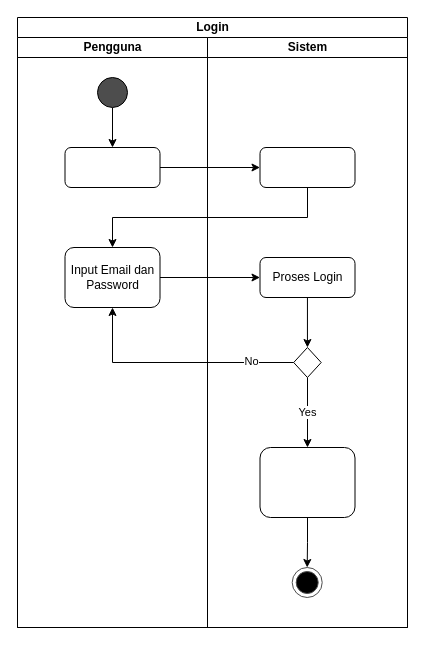
Some shapes in this 425 by 645 pixel diagram are drawn without their labels. Each missing label, with the centre of its shape:
Buka Aplikasi: [112,167]
Menampilkan Halaman Beranda: [307,482]
Menampilkan Halaman Login: [307,167]
